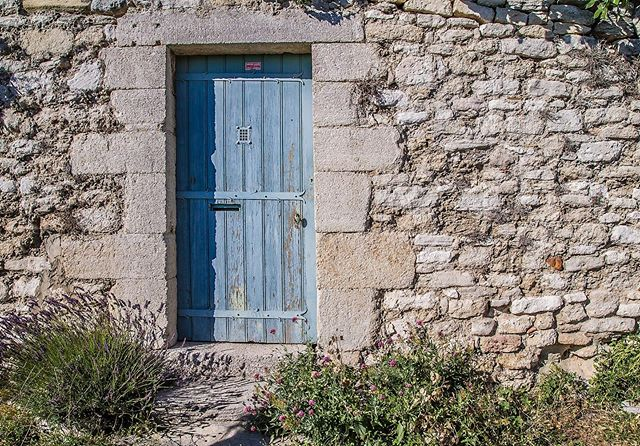door: (162, 39, 316, 352)
